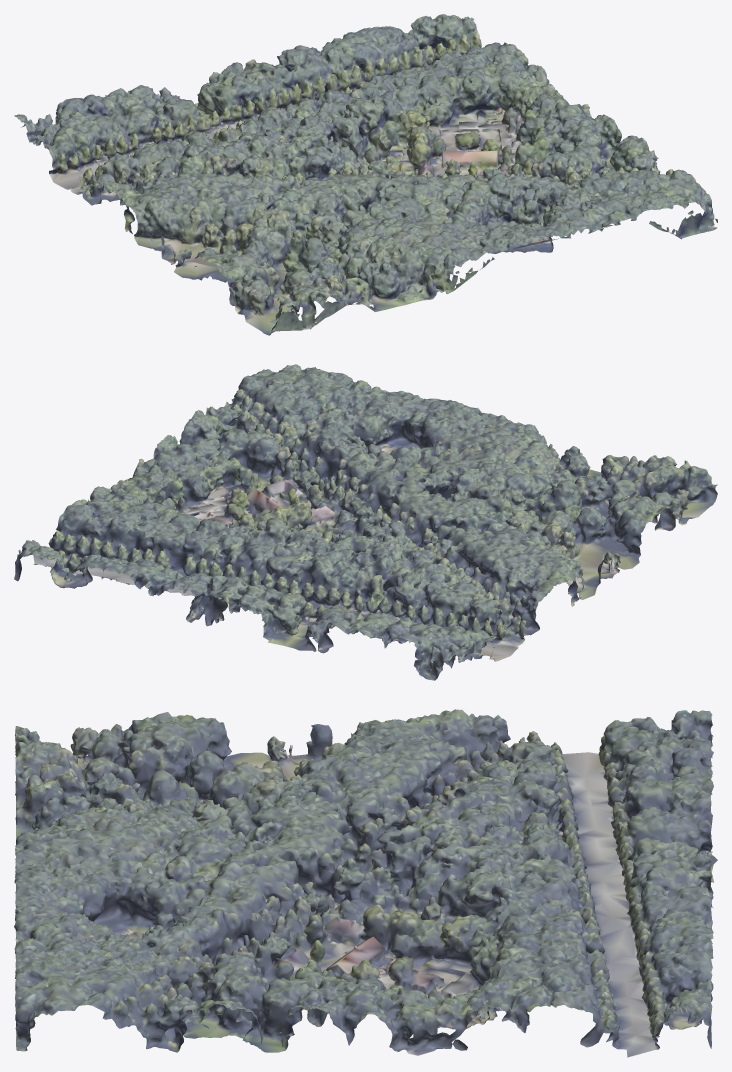
The model's file is surface-detail-3887_58193.glb.
3 renders of one model, top to bottom at view 1: azimuth 30°, elevation 25°; view 2: azimuth 150°, elevation 25°; view 3: azimuth 270°, elevation 25°, orthographic. The views are drawn at different scales.
Visible parts, largest first — view 1: world; view 2: world; view 3: world.
Part boxes in pixels (bbox=[...]): world: bbox=[14, 14, 717, 335]; world: bbox=[14, 364, 717, 680]; world: bbox=[14, 709, 717, 1057].
Bounding box in the file's own units: 376 × 35.19 × 365.
